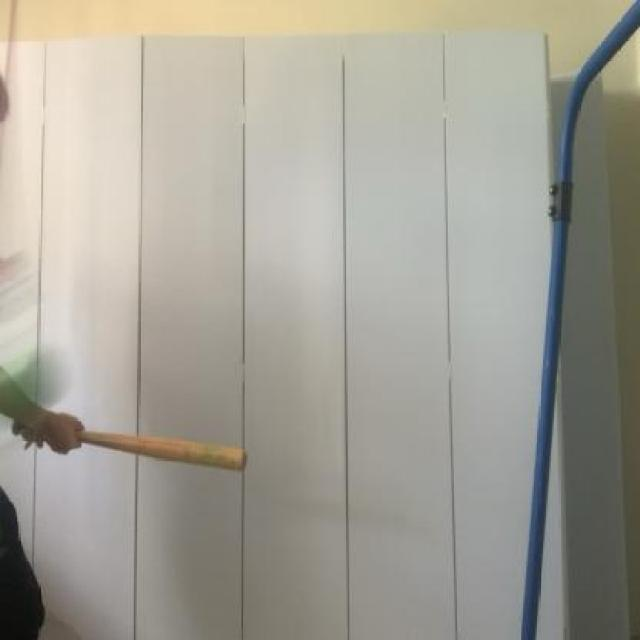baseball: (0, 332, 75, 425)
